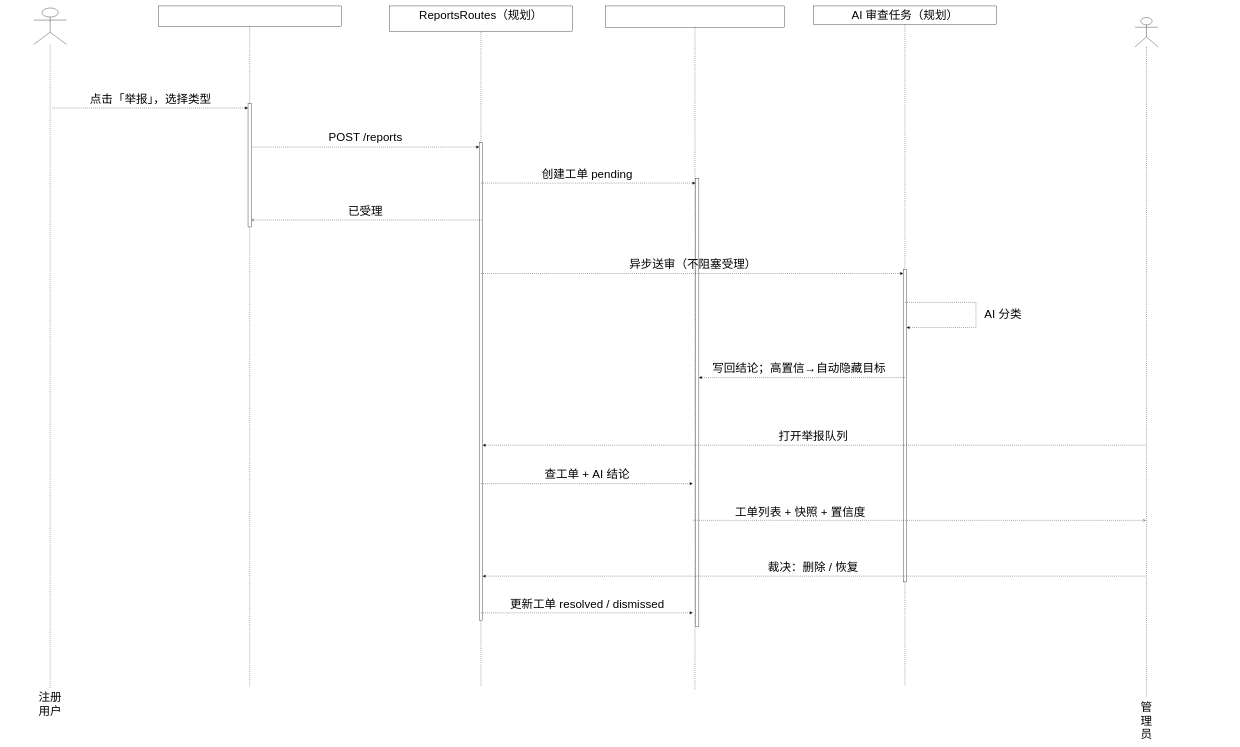
This 1240x747 diagram has some shape labels left out. Each missing label, with the box of its shape:
DB · reports: (605, 6, 784, 690)
前端: (158, 6, 341, 686)
